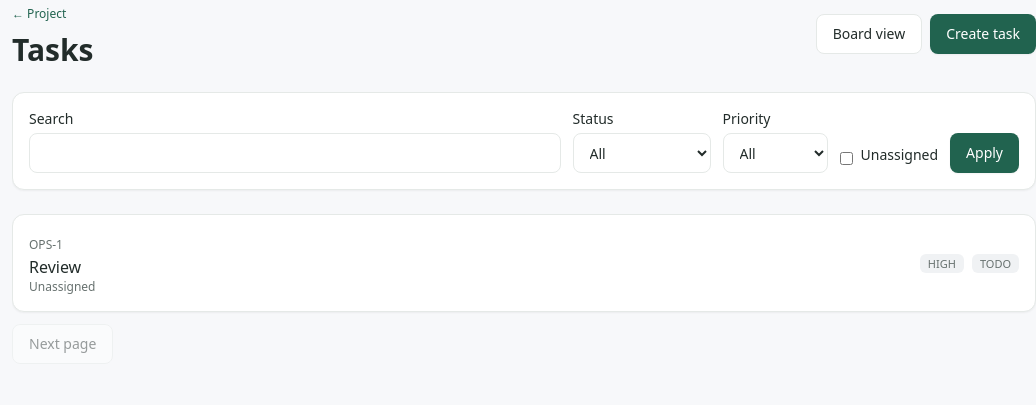
Test case: task management › renders task list, filters, and bounded board lanes
expect the heading "Review" is shown: met, box [29,256,81,278]
Select "TODO" in the dropdown labelled "Status" at (642, 153), box [572,133,710,173]
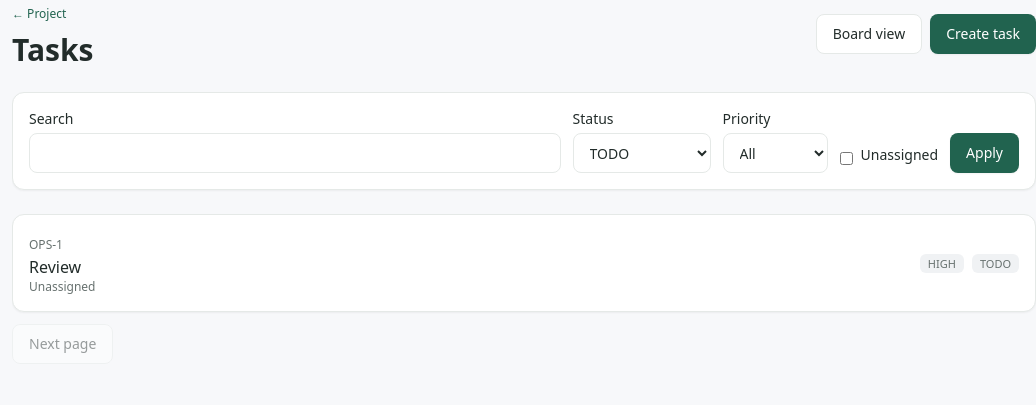
Click the button "Apply" at (985, 153), box [950,133,1019,173]
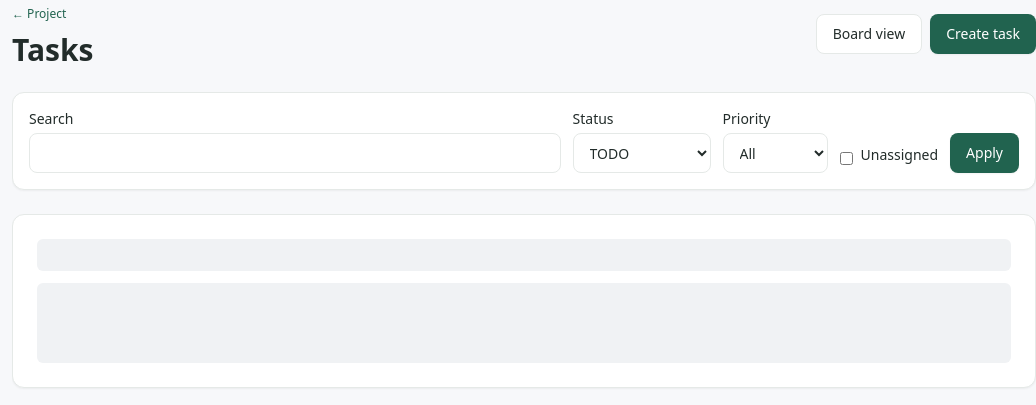
Click the button "Board view" at (869, 34), box [816,14,922,54]
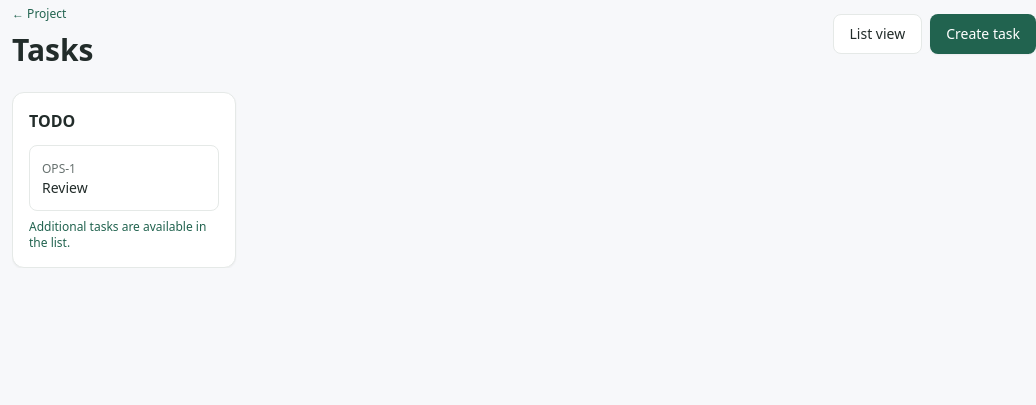
expect the text "Additional tasks are available in the list." is shown: met, box [29,219,219,251]
